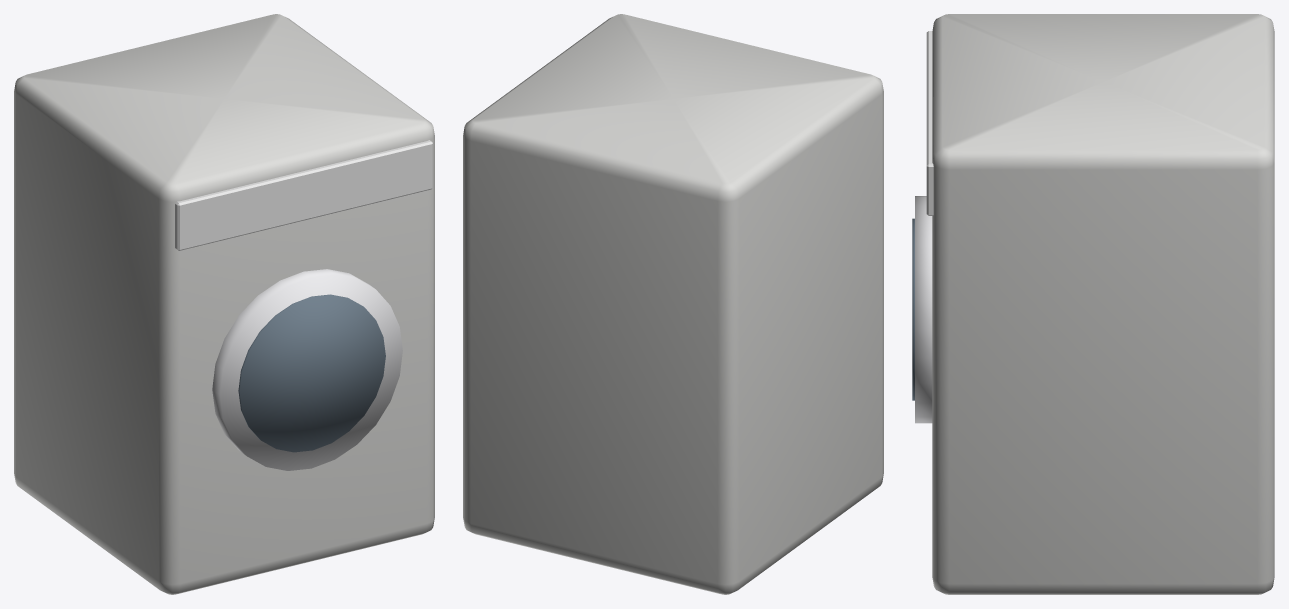
File: washing_machine.glb
3 views of the same model, side by side, from view 1: azimuth 30°, elevation 25°; view 2: azimuth 150°, elevation 25°; view 3: azimuth 270°, elevation 25° (orthographic). The views are drawn at different scales.
Parts seen in each view (by area): view 1: washing_machine; view 2: washing_machine; view 3: washing_machine.
Boxes of the visible parts, x1=… form: washing_machine: x1=14, y1=14, x2=434, y2=594; washing_machine: x1=463, y1=14, x2=883, y2=594; washing_machine: x1=912, y1=14, x2=1274, y2=594.
Size of the model in its own units: 0.6 by 0.86 by 0.635.
